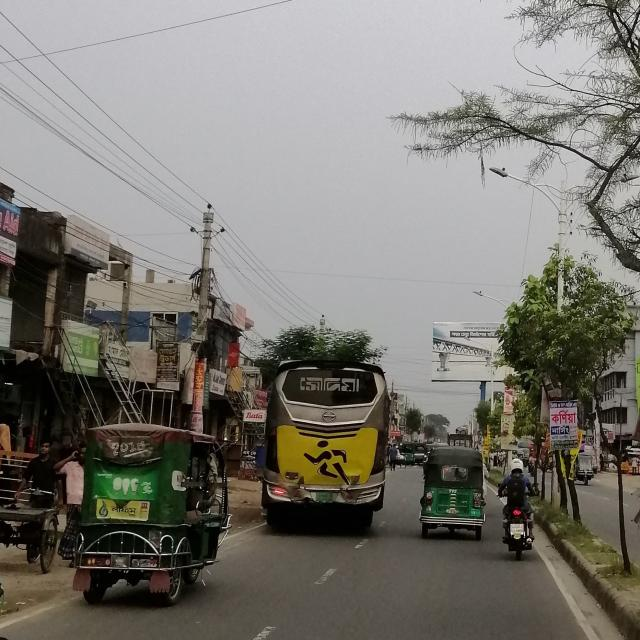Bus: (257, 355, 401, 534)
CNG: (419, 435, 490, 543)
Easybike: (80, 421, 234, 600)
Motorbike: (499, 487, 544, 557)
